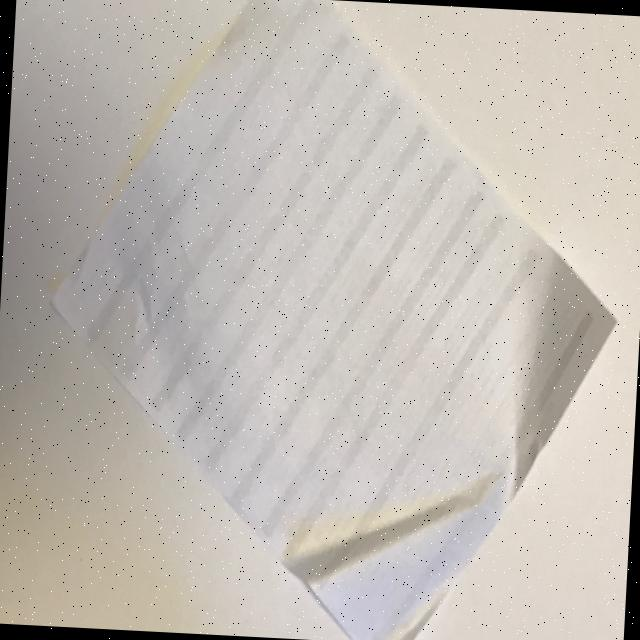paper: (32, 0, 634, 640)
